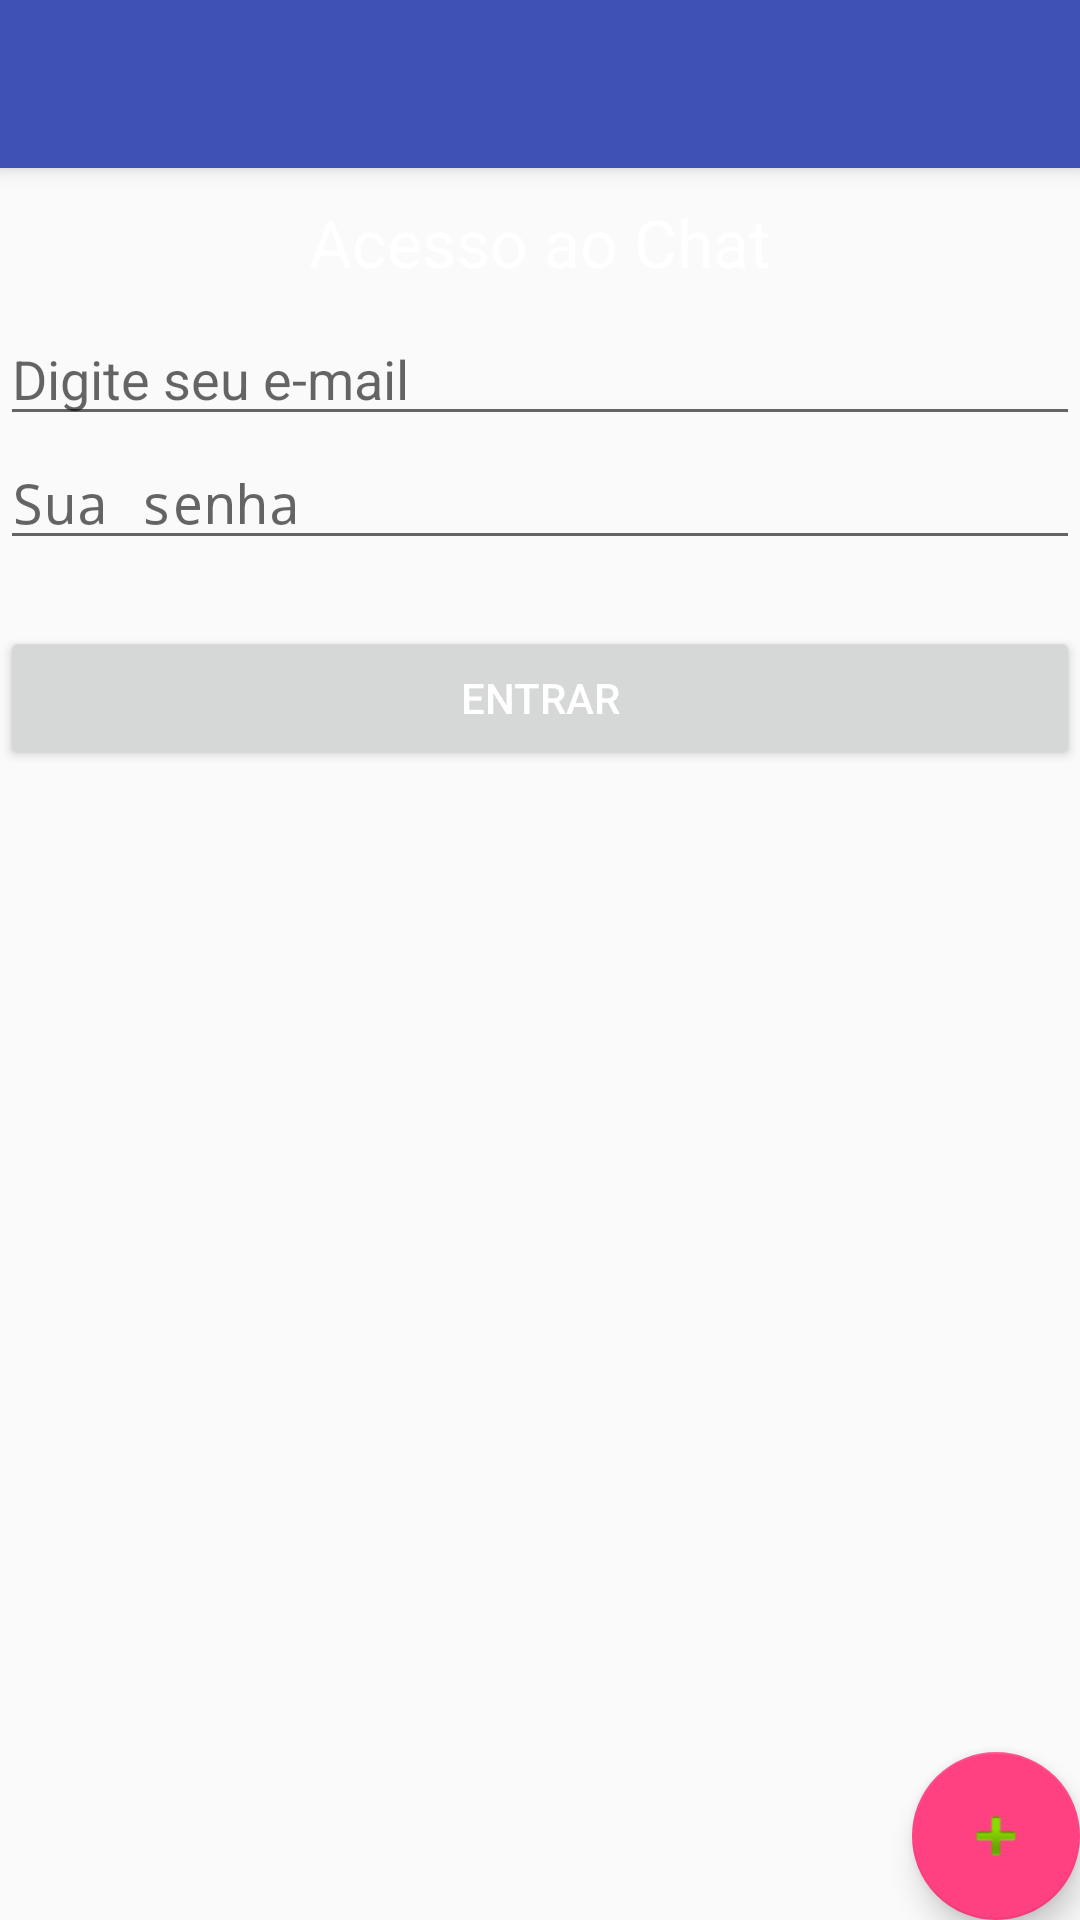

Icon bounding boxes for this 1080*1920 phone screenshot, format (x1,y1,x2,y2):
add: (912,1752,1080,1920)
